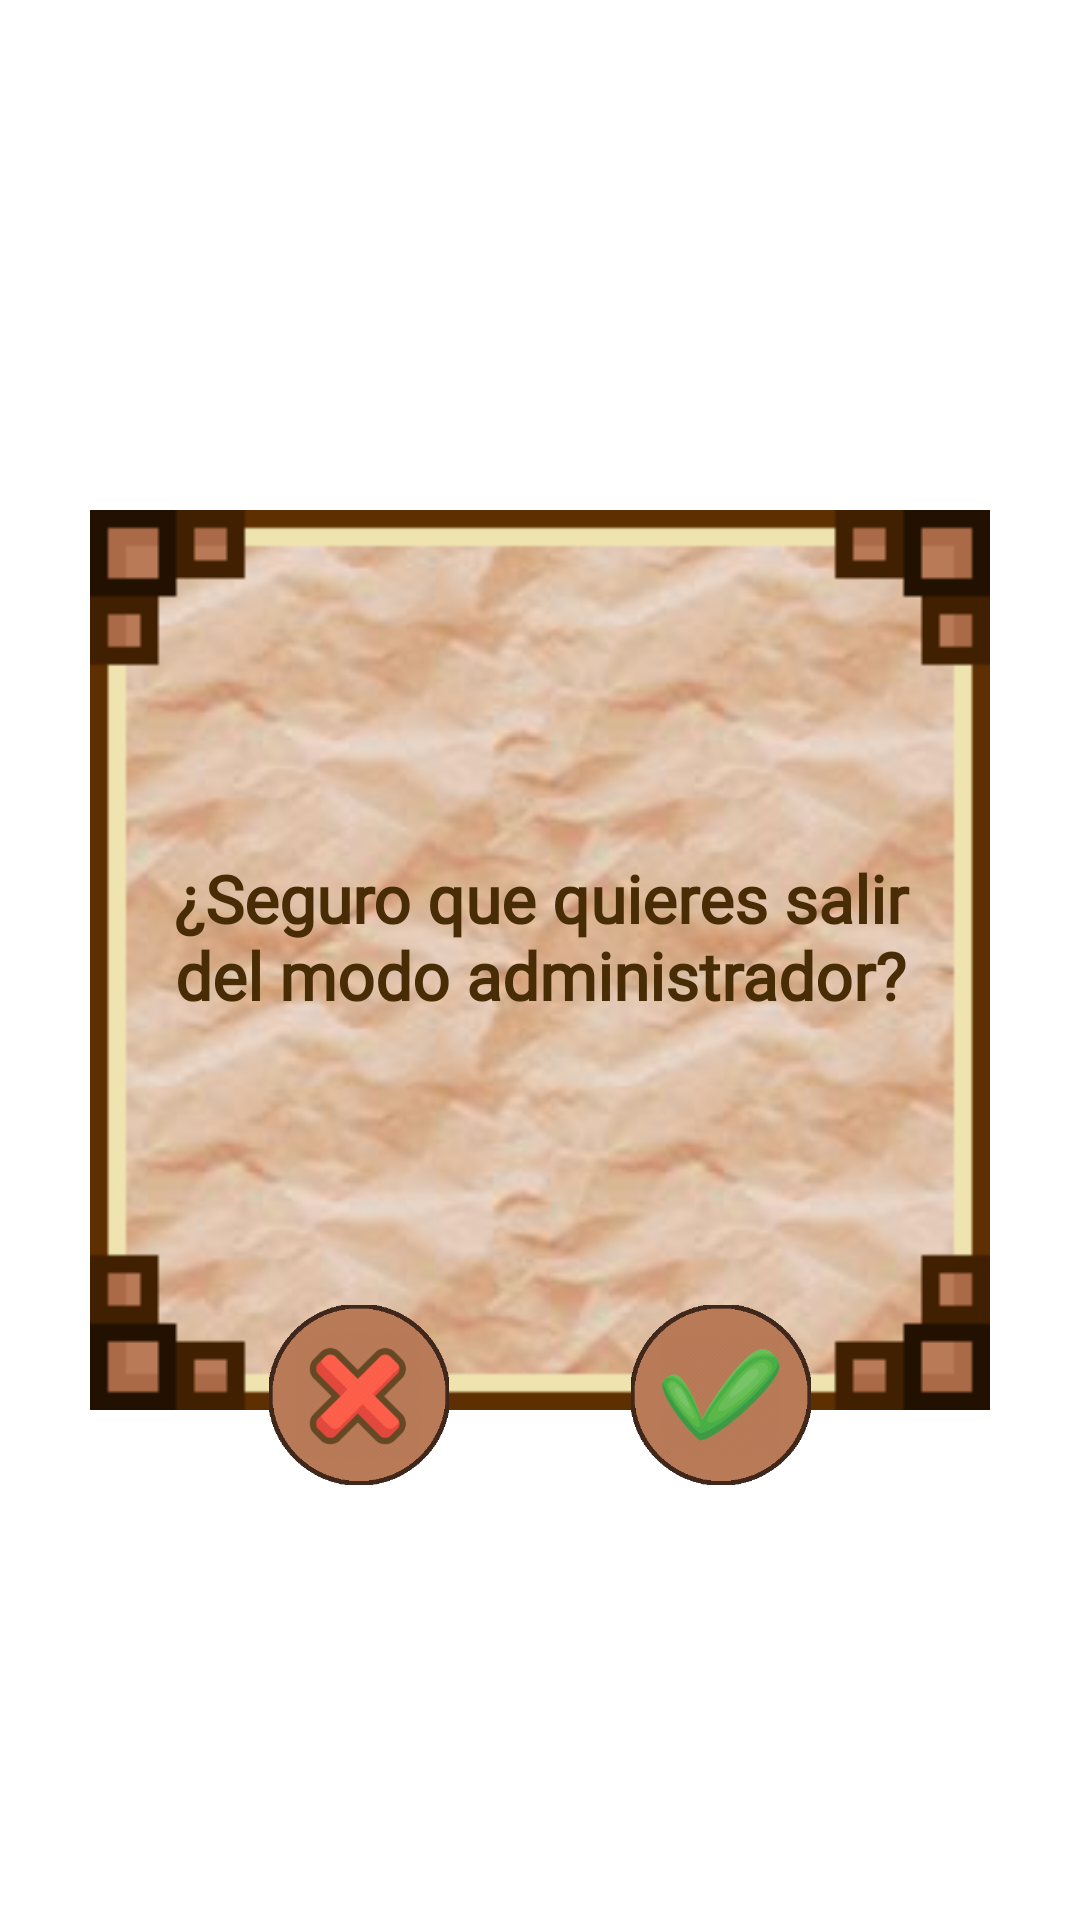

Named icons in this screenshot (1080w x 1920h) and their centers, point (x, y):
aceptar: point (721, 1395)
cerrar: point (359, 1395)
